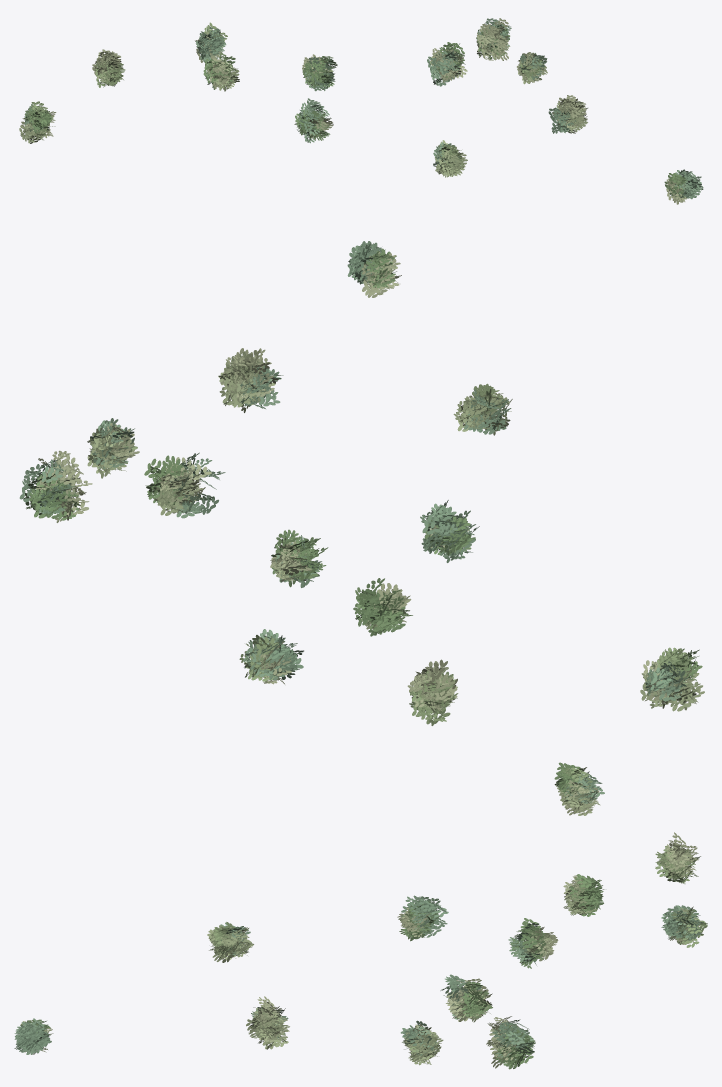
The model's file is campus-tree-5_-2-far.glb.
3 views of the same model, one above another, from view 1: azimuth 30°, elevation 25°; view 2: azimuth 150°, elevation 25°; view 3: azimuth 270°, elevation 25° (orthographic). The views are drawn at different scales.
Parts seen in each view (by area): view 1: Campus leaf canopy; view 2: Campus leaf canopy; view 3: Campus leaf canopy.
Boxes of the visible parts, bbox=[...] form: Campus leaf canopy: bbox=[19, 18, 703, 204]; Campus leaf canopy: bbox=[19, 241, 704, 725]; Campus leaf canopy: bbox=[14, 762, 707, 1069].
Size of the model in its own units: 69.06 by 7.13 by 73.55.
1 material, 1 textured.
